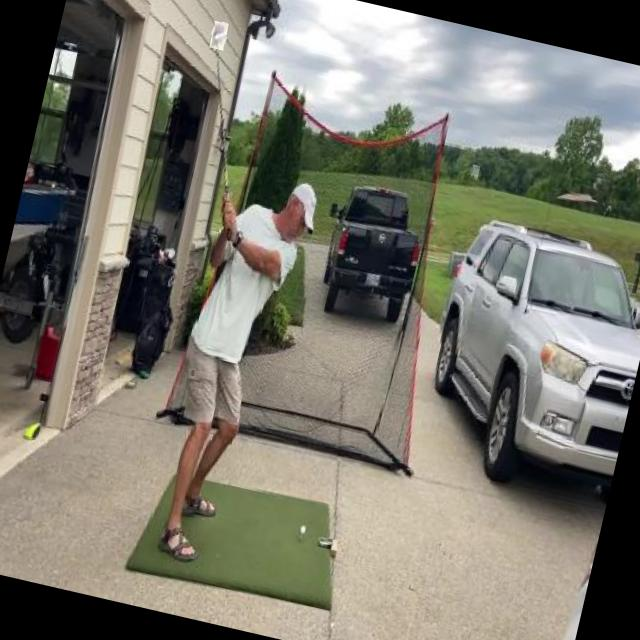club head: (208, 20, 228, 50)
